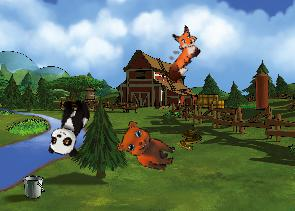bear: (114, 118, 181, 173)
fox: (150, 22, 209, 84)
panda: (45, 94, 93, 160)
